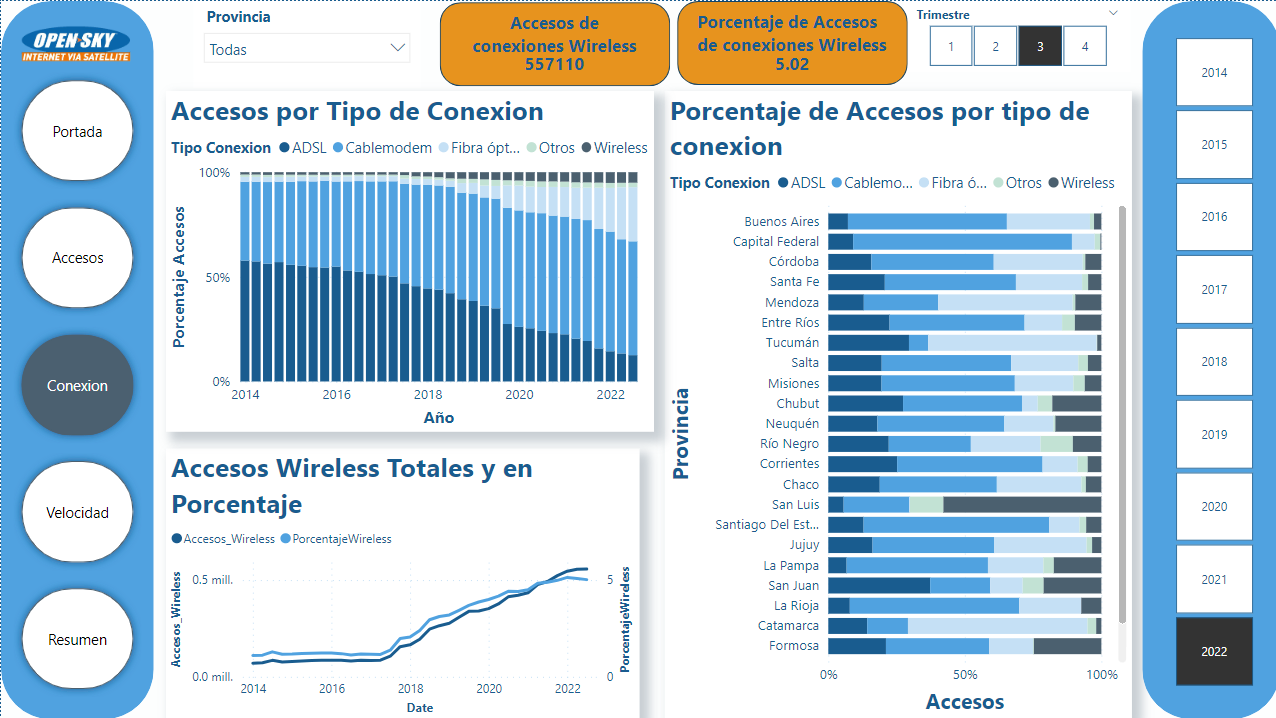

Layout of this report page (visuals, bound fields, positions):
{"tool":"powerbi","page":{"name":"Conexion","canvas":[1280,720],"ordinal":2},"visuals":[{"type":"hundredPercentStackedBarChart","title":"Porcentaje de Accesos por tipo de conexion","fields":{"Category":["provincias.iso_nombre"],"Series":["conexion_regional.Tipo Conexion"],"Y":["Sum(conexion_regional.Accesos)"]},"box":[663.8,90.5,467,628.3],"z":0},{"type":"shape","box":[0,0,152.9,718.6],"z":1000},{"type":"image","box":[0,17.1,152.9,54.3],"z":2000},{"type":"pageNavigator","box":[12.9,71.4,128.6,625.7],"z":3000},{"type":"shape","box":[1141.4,0,138.6,718.6],"z":4000},{"type":"slicer","fields":{"Values":["TablaCalendario.Año"]},"box":[1148.6,30,127.1,661.4],"z":5000},{"type":"slicer","fields":{"Values":["provincias.iso_nombre"]},"box":[192.9,0,227.1,87.1],"z":6000},{"type":"slicer","fields":{"Values":["TablaCalendario.Trimestre"]},"box":[902.9,0,227.1,71.4],"z":7000},{"type":"shape","box":[438.8,1.2,230,83.8],"z":8000},{"type":"kpi","title":"Accesos de conexiones Wireless","fields":{"Indicator":["Medidas.Accesos_Wireless"],"TrendLine":["TablaCalendario.Date"]},"box":[465.7,10,174.3,64.3],"z":9000},{"type":"lineChart","title":"Accesos Wireless Totales y en Porcentaje","fields":{"Y":["Medidas.Accesos_Wireless"],"Category":["TablaCalendario.Date"],"Y2":["Medidas.PorcentajeWireless"]},"box":[165,447.5,473.8,271.2],"z":10000},{"type":"hundredPercentStackedColumnChart","title":" Accesos por Tipo de Conexion","fields":{"Category":["TablaCalendario.Date"],"Series":["conexion_regional.Tipo Conexion"],"Y":["Sum(conexion_regional.Accesos)"]},"box":[165,90.5,487.7,341.1],"z":11000},{"type":"shape","box":[675.7,0,230,83.8],"z":12000},{"type":"kpi","title":" Porcentaje de Accesos de conexiones Wireless","fields":{"Indicator":["Medidas.PorcentajeWireless"],"TrendLine":["TablaCalendario.Date"]},"box":[691.2,8.8,200,66.2],"z":13000}]}

Visuals, with their boxes on the page's 1280x720 design canvas (x1, y1, x2, y2). These are canvas units, not pixel positions in the 1276x718 screenshot, which may show the page scaled, cropped or inside an application window:
"Porcentaje de Accesos por tipo de conexion" hundredPercentStackedBarChart: 664 90 1131 719
shape: 0 0 153 719
image: 0 17 153 71
pageNavigator: 13 71 142 697
shape: 1141 0 1280 719
slicer - TablaCalendario.Año: 1149 30 1276 691
slicer - provincias.iso_nombre: 193 0 420 87
slicer - TablaCalendario.Trimestre: 903 0 1130 71
shape: 439 1 669 85
"Accesos de conexiones Wireless" kpi: 466 10 640 74
"Accesos Wireless Totales y en Porcentaje" lineChart: 165 448 639 719
" Accesos por Tipo de Conexion" hundredPercentStackedColumnChart: 165 90 653 432
shape: 676 0 906 84
" Porcentaje de Accesos de conexiones Wireless" kpi: 691 9 891 75
